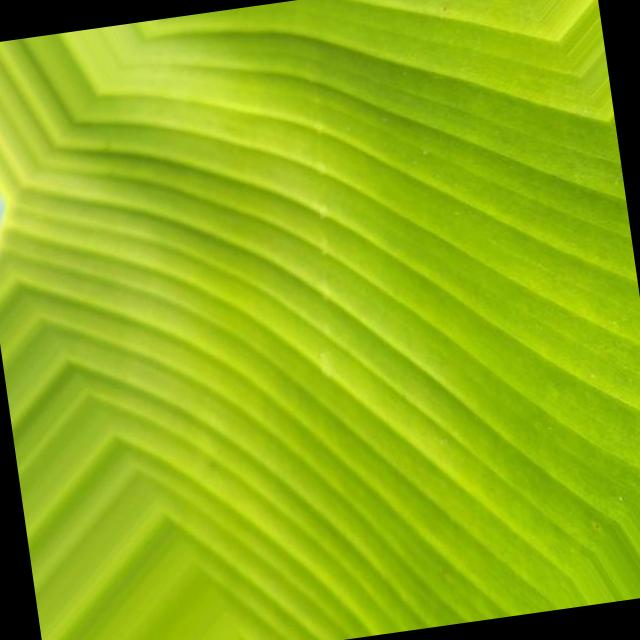Banana_Healthy: (164, 93, 564, 504)
